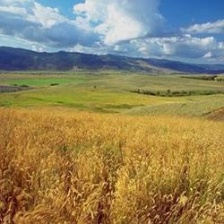neutral: (3, 36, 220, 224)
